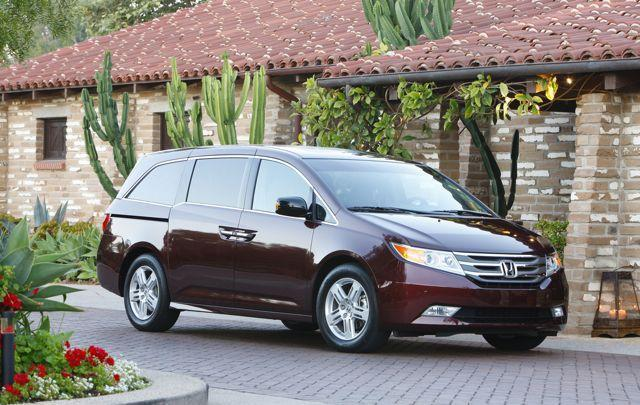Car: (87, 140, 577, 365)
